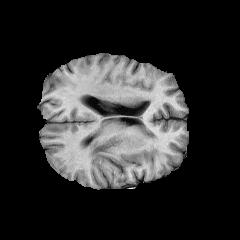glioma: (86, 124, 125, 159)
